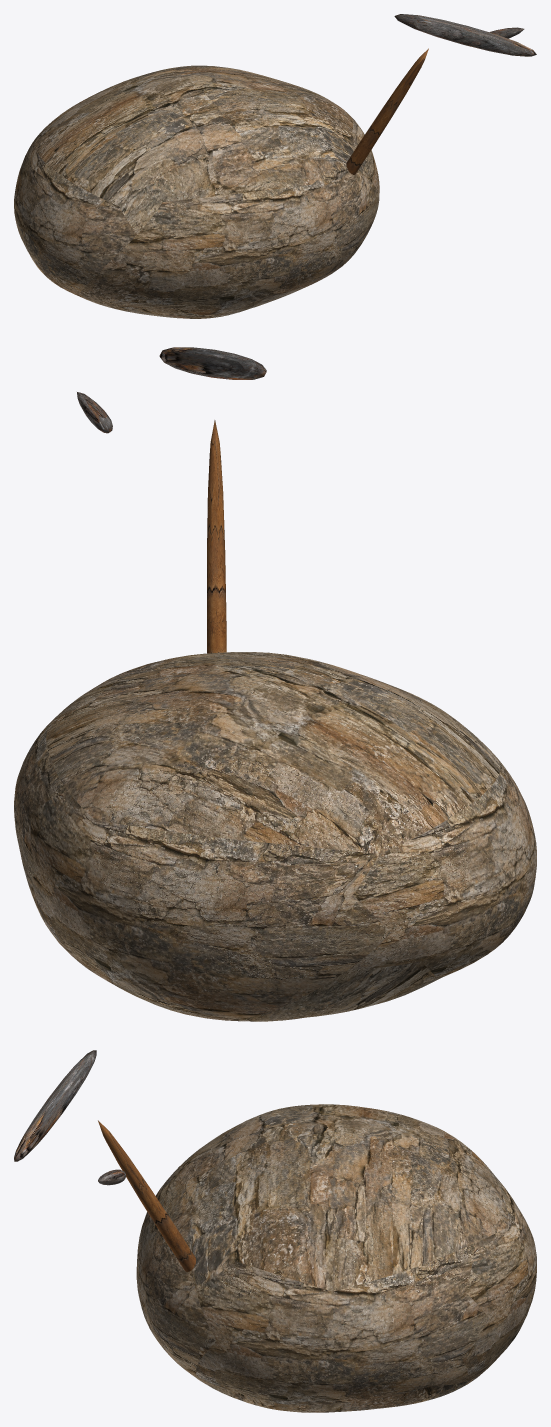
File: pickaxe-on-rock-v01.glb
3 renders of one model, top to bottom at view 1: azimuth 30°, elevation 25°; view 2: azimuth 150°, elevation 25°; view 3: azimuth 270°, elevation 25°, orthographic. The views are drawn at different scales.
Parts seen in each view (by area): view 1: pickaxe-on-rock; view 2: pickaxe-on-rock; view 3: pickaxe-on-rock.
Boxes of the visible parts, bbox=[...] form: pickaxe-on-rock: bbox=[14, 14, 536, 318]; pickaxe-on-rock: bbox=[14, 347, 536, 1021]; pickaxe-on-rock: bbox=[14, 1050, 536, 1412].
Size of the model in its own units: 1.55 by 1.18 by 1.47.
Materials: 3 (3 with a texture image).
